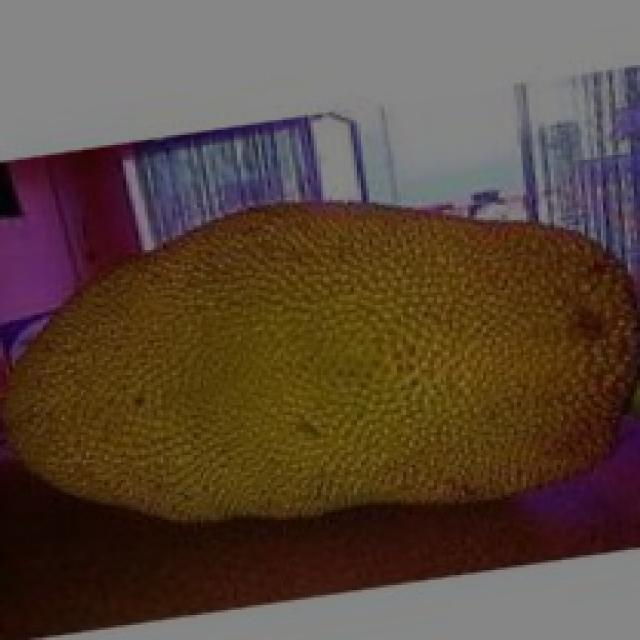Fruit: (0, 165, 397, 575), (255, 170, 640, 560)
